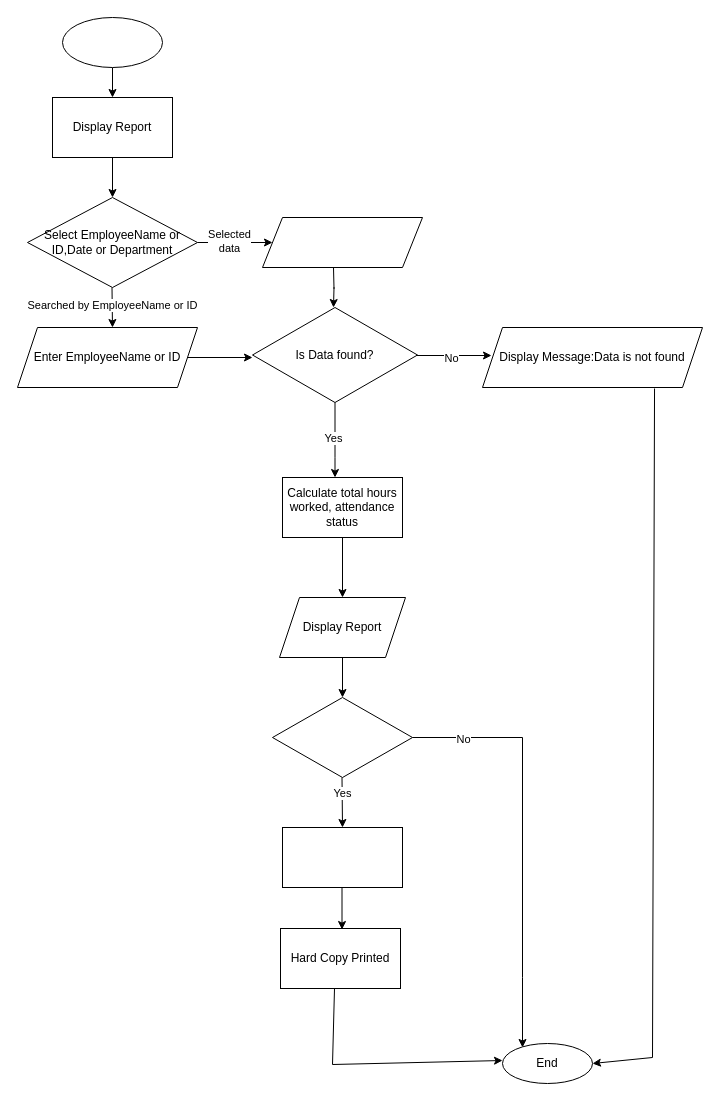
Image size: 720x1101. Some labels were removed from this diagram. Each missing label, with the centre of its shape:
Choose to print report: the point at 342,737
Selected date/department: the point at 342,242
Send to printer: the point at 342,857
Start: the point at 112,42
